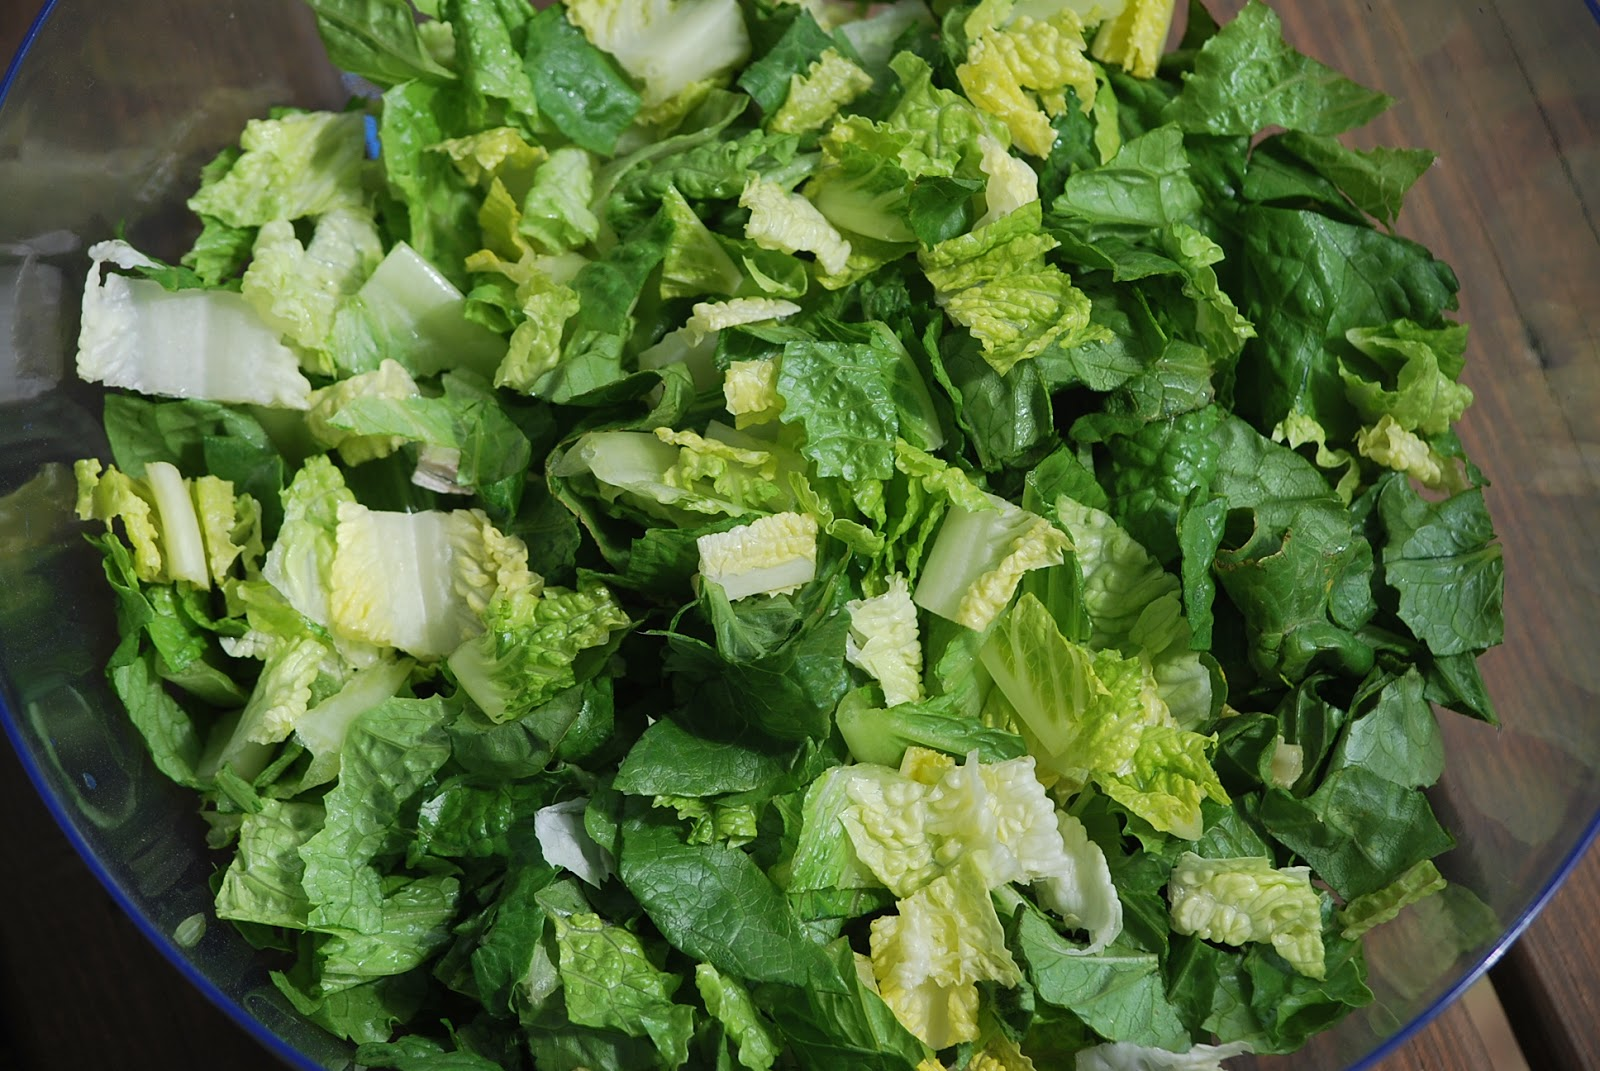chopped lettuce: (111, 13, 1451, 1022)
